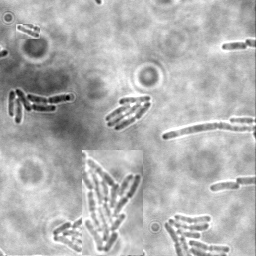Dividing: (161, 123, 255, 142), (221, 41, 248, 52)
Microcolony: (82, 150, 143, 255), (162, 212, 231, 255), (8, 89, 72, 126), (106, 96, 153, 132), (208, 182, 240, 193)
Rod: (16, 24, 40, 39)
